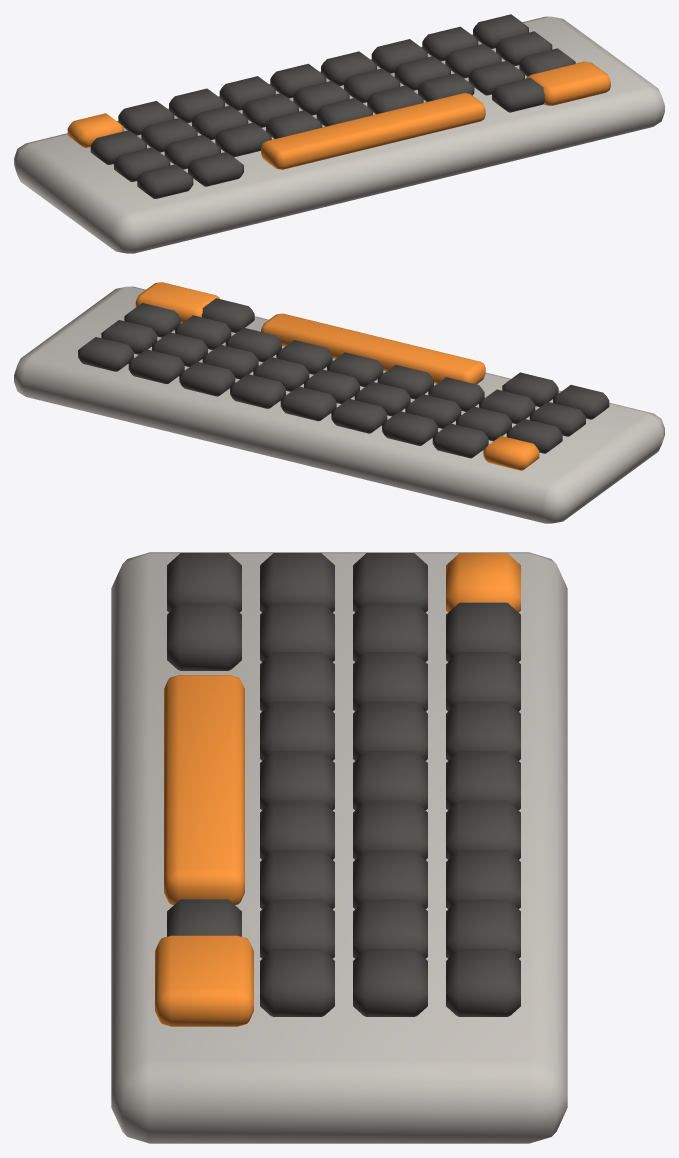
Rendered from teclado.fbx.
3 renders of one model, top to bottom at view 1: azimuth 30°, elevation 25°; view 2: azimuth 150°, elevation 25°; view 3: azimuth 270°, elevation 25°, orthographic. The views are drawn at different scales.
Visible parts, largest first — view 1: Teclado, Barra_Espaco, Tecla_Enter, Tecla_28, Tecla_29, Tecla_30, Tecla_21, Tecla_Destaque, Tecla_10, Tecla_19, Tecla_26, Tecla_04 (+21 smaller); view 2: Teclado, Barra_Espaco, Tecla_Enter, Tecla_Destaque, Tecla_02, Tecla_04, Tecla_07, Tecla_05, Tecla_08, Tecla_06, Tecla_09, Tecla_03 (+21 smaller); view 3: Teclado, Barra_Espaco, Tecla_Enter, Tecla_09, Tecla_18, Tecla_27, Tecla_29, Tecla_07, Tecla_08, Tecla_16, Tecla_17, Tecla_24 (+21 smaller).
Boxes of the visible parts, x1=… form: Teclado: x1=14, y1=16, x2=664, y2=253; Barra_Espaco: x1=261, y1=93, x2=485, y2=169; Tecla_Enter: x1=526, y1=61, x2=610, y2=105; Tecla_28: x1=137, y1=164, x2=193, y2=198; Tecla_29: x1=188, y1=152, x2=243, y2=186; Tecla_30: x1=492, y1=77, x2=544, y2=112; Tecla_21: x1=215, y1=122, x2=271, y2=157; Tecla_Destaque: x1=67, y1=113, x2=123, y2=147; Tecla_10: x1=90, y1=130, x2=146, y2=164; Tecla_19: x1=114, y1=147, x2=170, y2=181; Tecla_26: x1=468, y1=60, x2=524, y2=95; Tecla_04: x1=219, y1=76, x2=275, y2=110; Teclado: x1=14, y1=286, x2=664, y2=523; Barra_Espaco: x1=261, y1=313, x2=485, y2=384; Tecla_Enter: x1=135, y1=282, x2=219, y2=323; Tecla_Destaque: x1=483, y1=436, x2=539, y2=470; Tecla_02: x1=432, y1=423, x2=488, y2=458; Tecla_04: x1=331, y1=398, x2=387, y2=433; Tecla_07: x1=179, y1=361, x2=235, y2=396; Tecla_05: x1=280, y1=386, x2=336, y2=421; Tecla_08: x1=128, y1=349, x2=184, y2=383; Tecla_06: x1=230, y1=374, x2=285, y2=408; Tecla_09: x1=78, y1=337, x2=133, y2=371; Tecla_03: x1=382, y1=411, x2=437, y2=445; Teclado: x1=111, y1=552, x2=567, y2=1143; Barra_Espaco: x1=164, y1=675, x2=244, y2=904; Tecla_Enter: x1=155, y1=935, x2=253, y2=1026; Tecla_09: x1=446, y1=948, x2=520, y2=1016; Tecla_18: x1=353, y1=948, x2=427, y2=1016; Tecla_27: x1=260, y1=948, x2=334, y2=1016; Tecla_29: x1=167, y1=602, x2=241, y2=670; Tecla_07: x1=446, y1=850, x2=520, y2=909; Tecla_08: x1=446, y1=899, x2=520, y2=958; Tecla_16: x1=353, y1=850, x2=427, y2=909; Tecla_17: x1=353, y1=899, x2=427, y2=958; Tecla_24: x1=260, y1=800, x2=334, y2=859.
Bounding box in the file's own units: 425 × 43 × 152.
